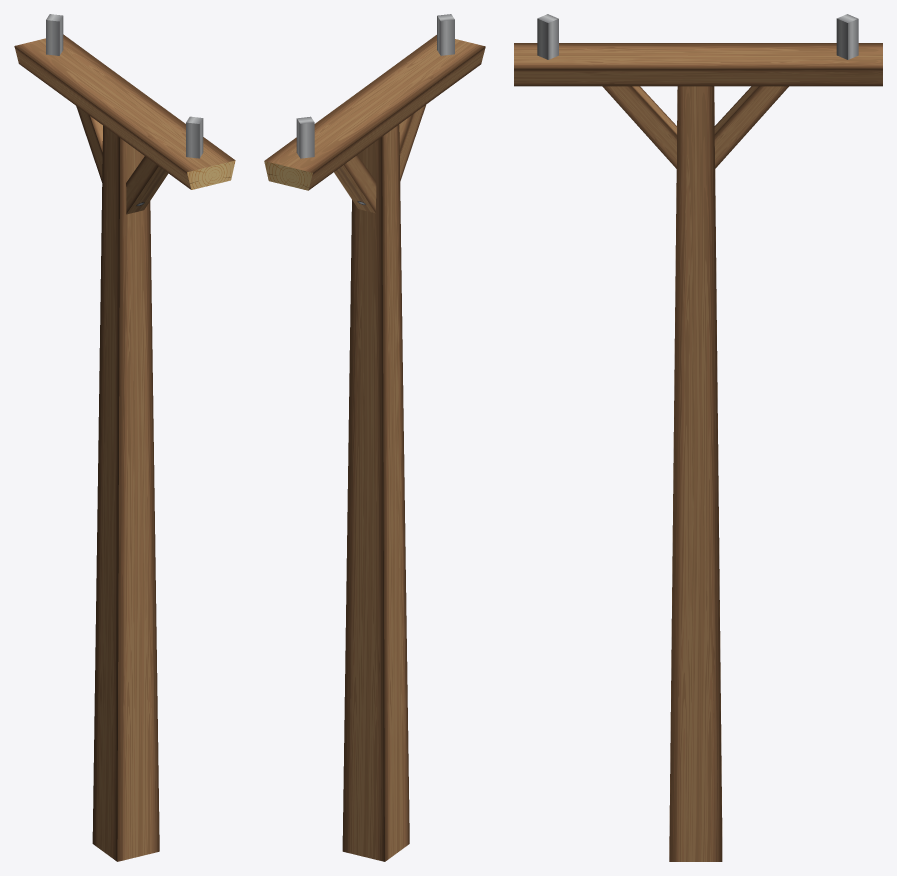
File: Telegraph_01.FBX
3 renders of one model, left to right at view 1: azimuth 30°, elevation 25°; view 2: azimuth 150°, elevation 25°; view 3: azimuth 270°, elevation 25°, orthographic. The views are drawn at different scales.
Parts seen in each view (by area): view 1: Telegraph_01; view 2: Telegraph_01; view 3: Telegraph_01.
Part boxes in pixels (left/top/right/bottom): Telegraph_01: left=14, top=14, right=235, bottom=861; Telegraph_01: left=264, top=14, right=485, bottom=861; Telegraph_01: left=514, top=14, right=882, bottom=861.
Bounding box in the file's own units: 0.2407 × 3.67 × 1.48.
